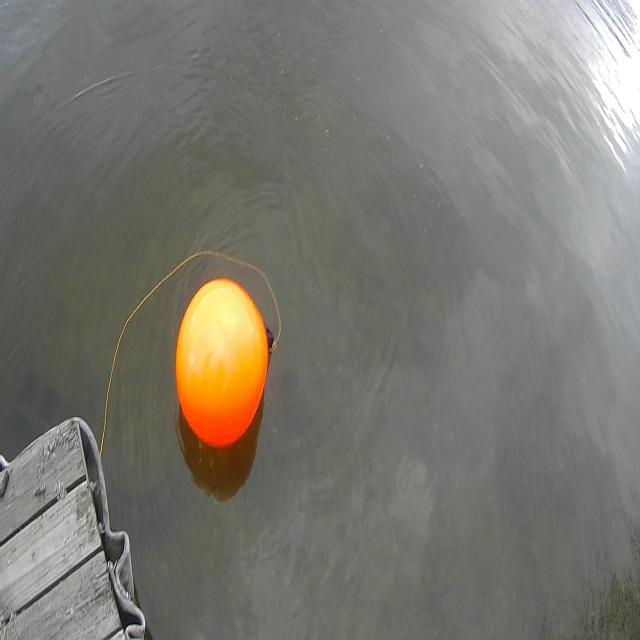Buoy: (172, 271, 271, 461)
